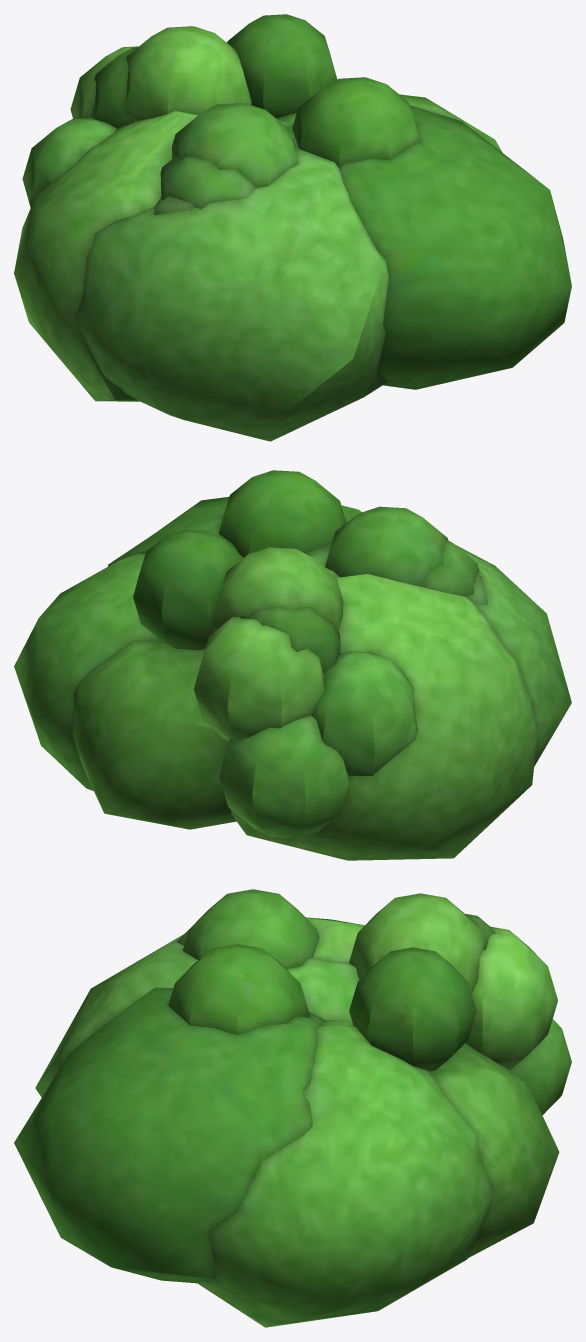
Rendered from bush_1_4.glb.
3 renders of one model, top to bottom at view 1: azimuth 30°, elevation 25°; view 2: azimuth 150°, elevation 25°; view 3: azimuth 270°, elevation 25°, orthographic. The views are drawn at different scales.
Visible parts, largest first — view 1: peb; view 2: peb; view 3: peb.
Part boxes in pixels (<box>): peb: <box>14,14,571,441</box>; peb: <box>14,470,571,860</box>; peb: <box>14,889,571,1327</box>.
Size of the model in its own units: 3.09 by 2.08 by 3.03.
Materials: 1 (1 with a texture image).
